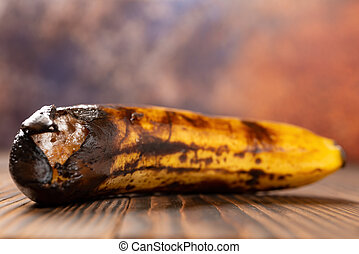looks_defective: (8, 73, 359, 243)
